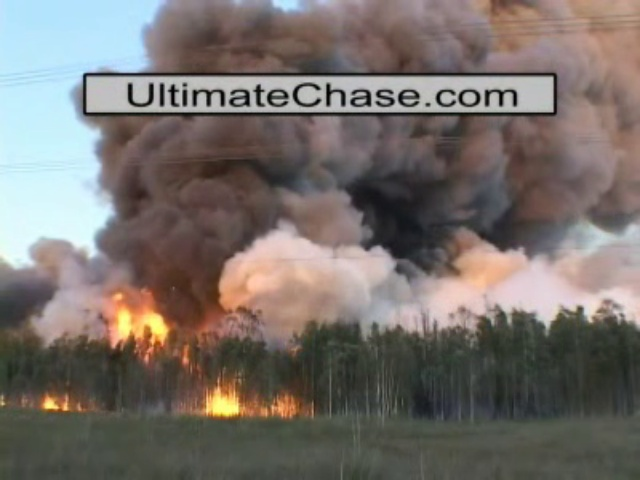fire: (107, 294, 173, 343), (202, 386, 254, 417)
